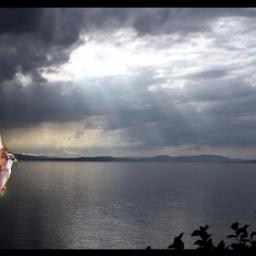Sparrow: (0, 118, 17, 221)
